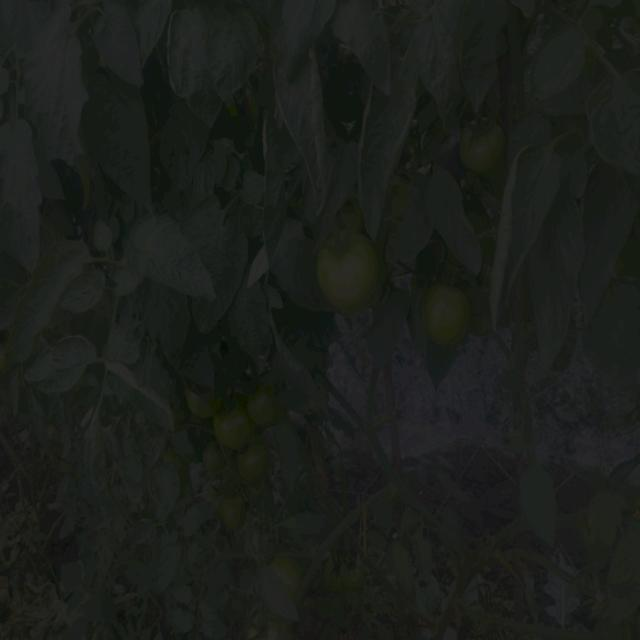tomato: (317, 233, 388, 319), (423, 287, 471, 351), (458, 117, 508, 172), (591, 486, 631, 553), (214, 411, 257, 455), (341, 551, 375, 598), (246, 384, 282, 428), (217, 494, 250, 537), (184, 390, 224, 425), (276, 554, 310, 594), (240, 448, 273, 484), (244, 614, 277, 637), (203, 447, 229, 471)
